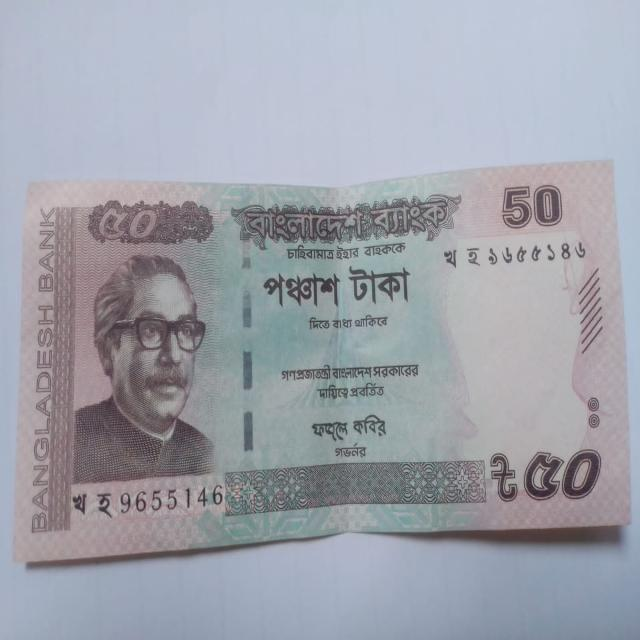Taka: (25, 163, 631, 521)
